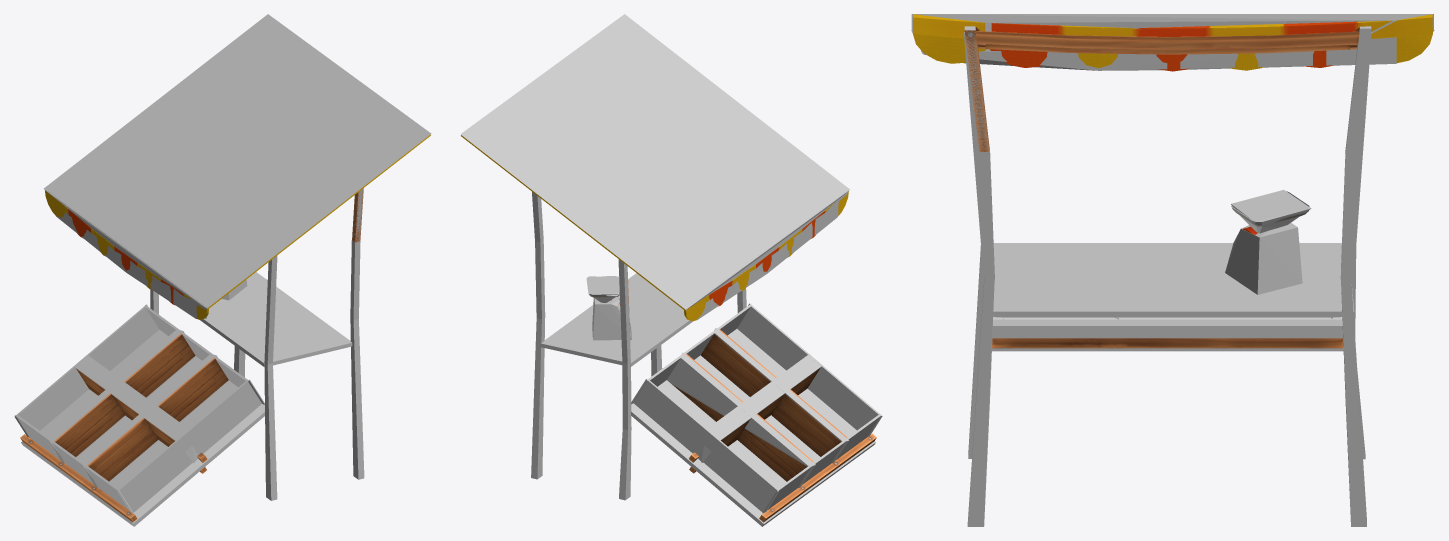
File: SM_Market01_1.fbx
3 views of the same model, side by side, from view 1: azimuth 30°, elevation 25°; view 2: azimuth 150°, elevation 25°; view 3: azimuth 270°, elevation 25° (orthographic). The views are drawn at different scales.
Parts seen in each view (by area): view 1: SM_Market01_1_ConvexHulls, SM_Market01_1; view 2: SM_Market01_1_ConvexHulls, SM_Market01_1; view 3: SM_Market01_1_ConvexHulls, SM_Market01_1.
Part boxes in pixels (x1,y1,x2,y2): SM_Market01_1_ConvexHulls: (14, 14, 431, 526); SM_Market01_1: (20, 134, 430, 521); SM_Market01_1_ConvexHulls: (460, 14, 882, 526); SM_Market01_1: (461, 135, 876, 522); SM_Market01_1_ConvexHulls: (911, 14, 1434, 526); SM_Market01_1: (912, 14, 1432, 348).
Bounding box in the file's own units: 247 × 245 × 285.
2 materials, 1 textured.
